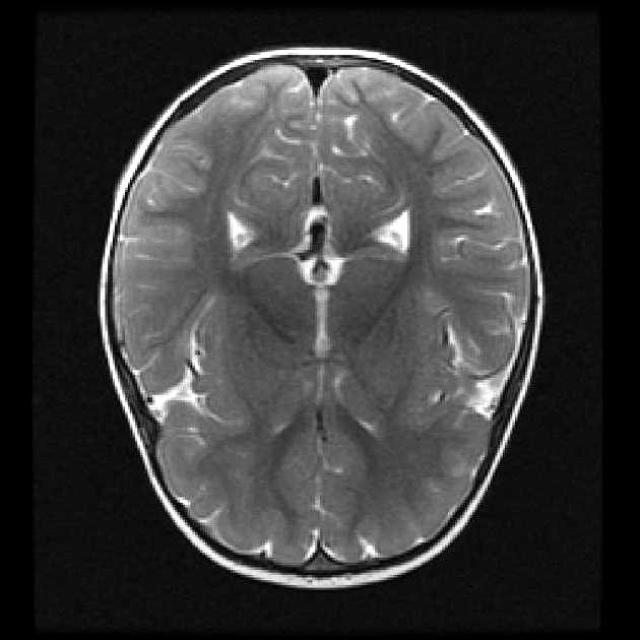notumor: (99, 50, 542, 586)
